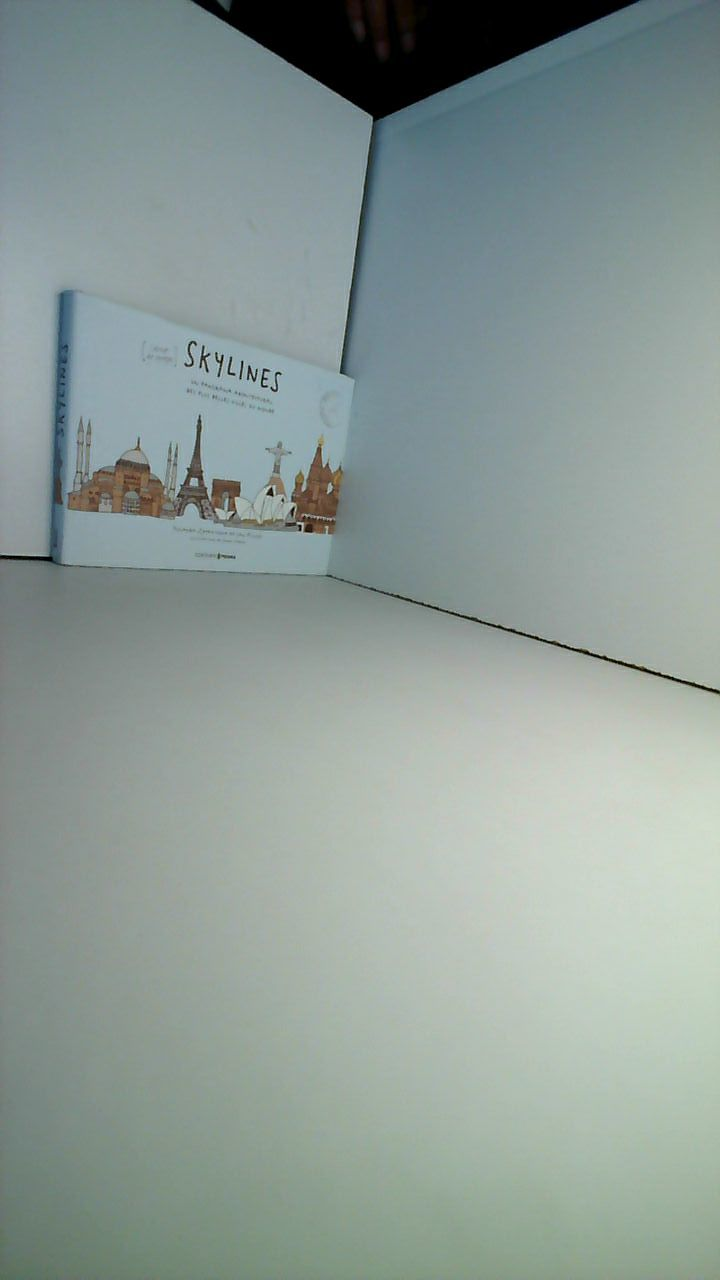book: (29, 275, 377, 602)
